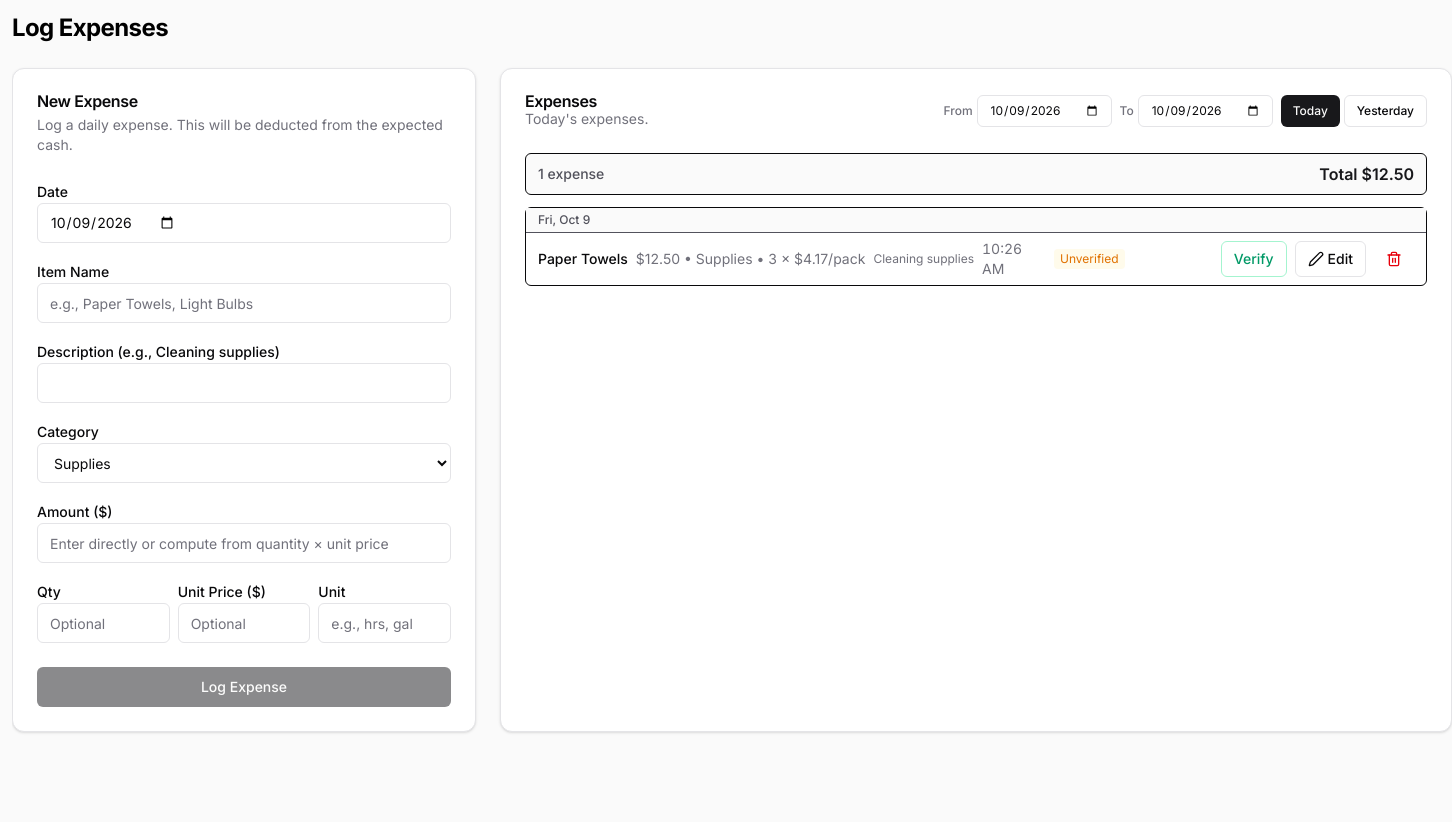
Scenario: Expenses › logs a new expense via POST
Expected: the text "Cleaning supplies" is shown, x1=873 y1=251 x2=974 y2=267
Step 1. Type "New Mop" into the field labelled "Item Name" → coordinates (244, 303), box x1=37 y1=283 x2=451 y2=323
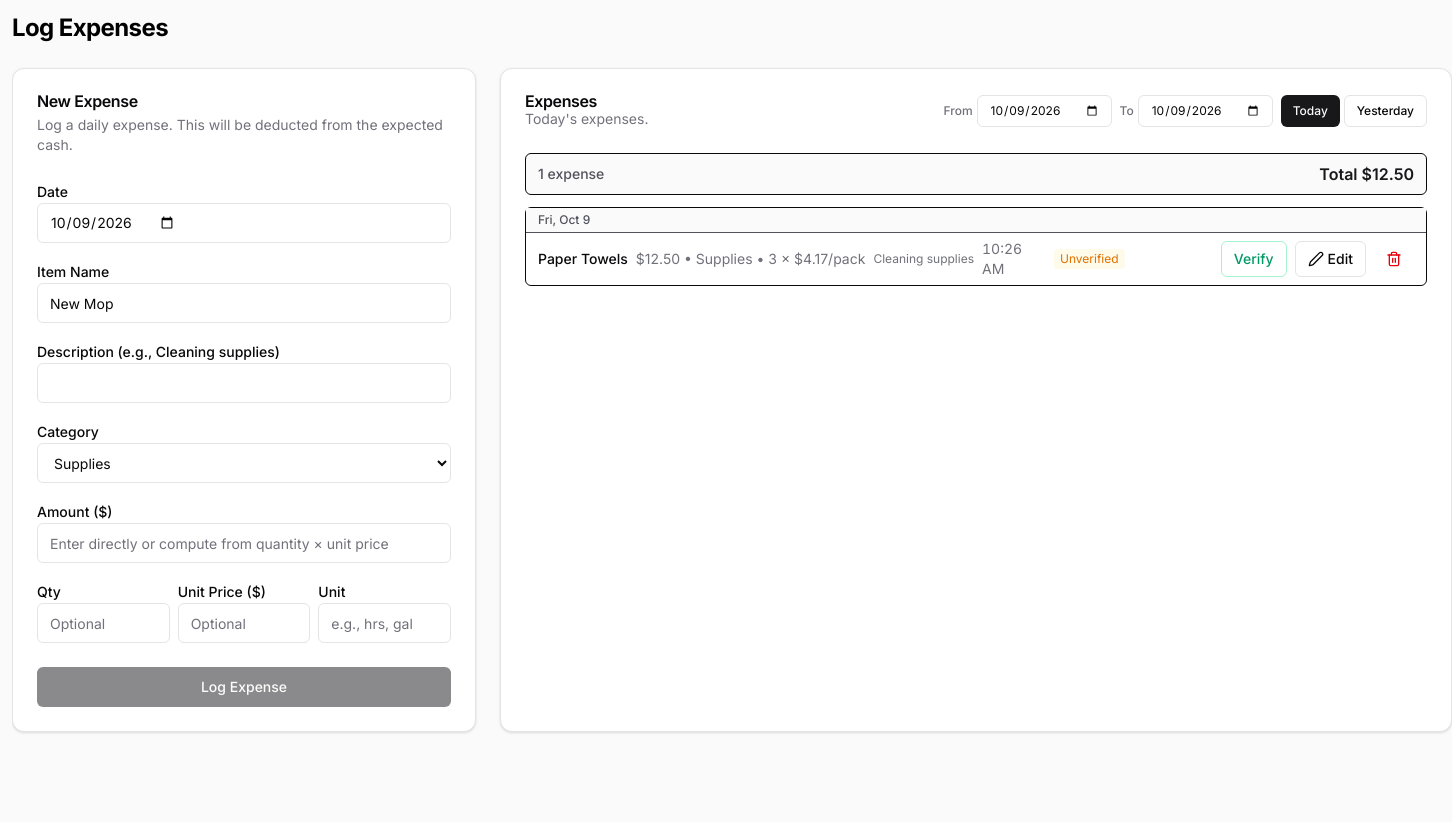
Step 2. Type "New mop" into the field labelled "Description (e.g., Cleaning supplies)" → coordinates (244, 383), box x1=37 y1=363 x2=451 y2=403
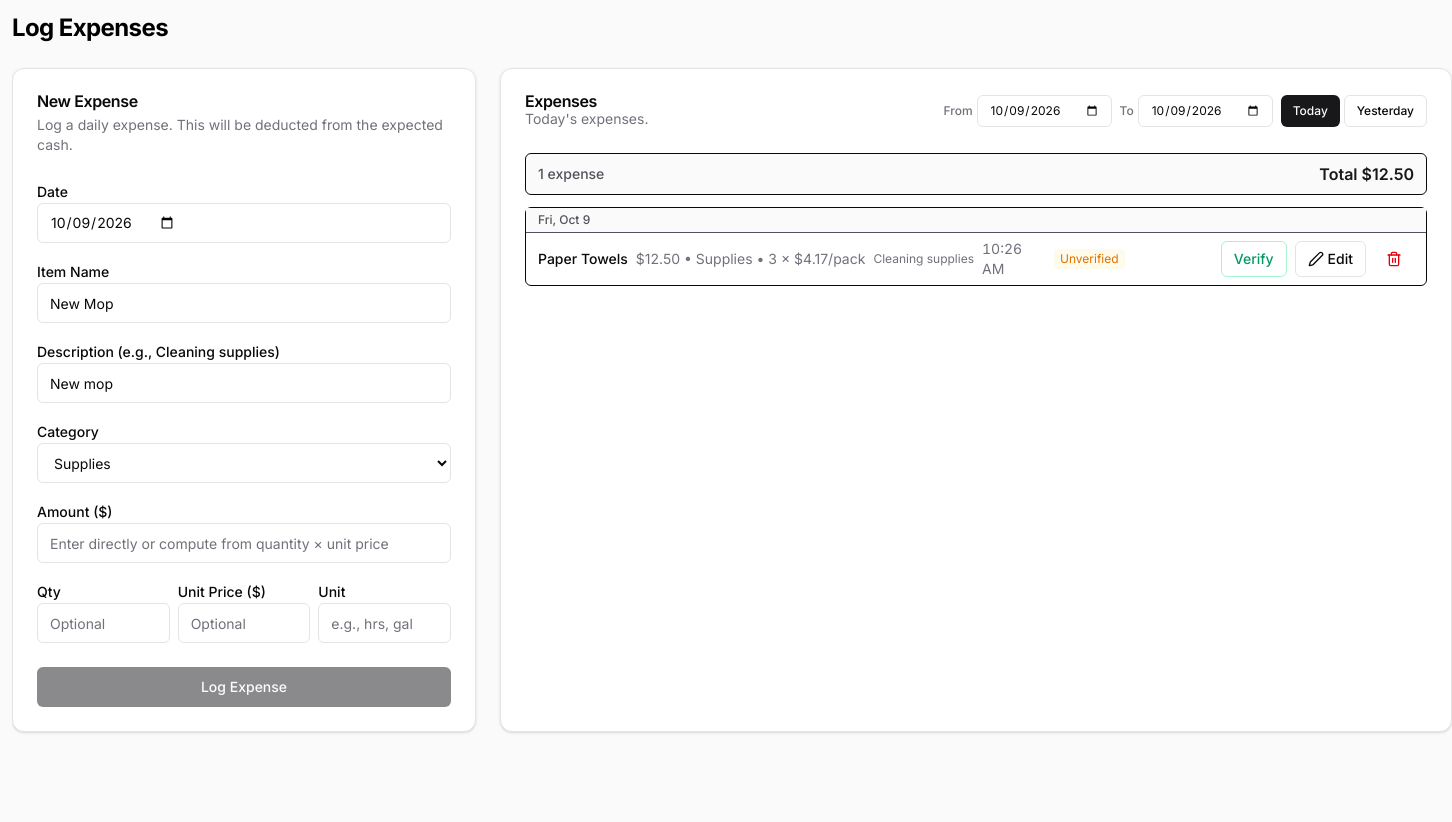
Step 3. Type "8" into the number field labelled "Amount ($)" → coordinates (244, 543), box x1=37 y1=523 x2=451 y2=563
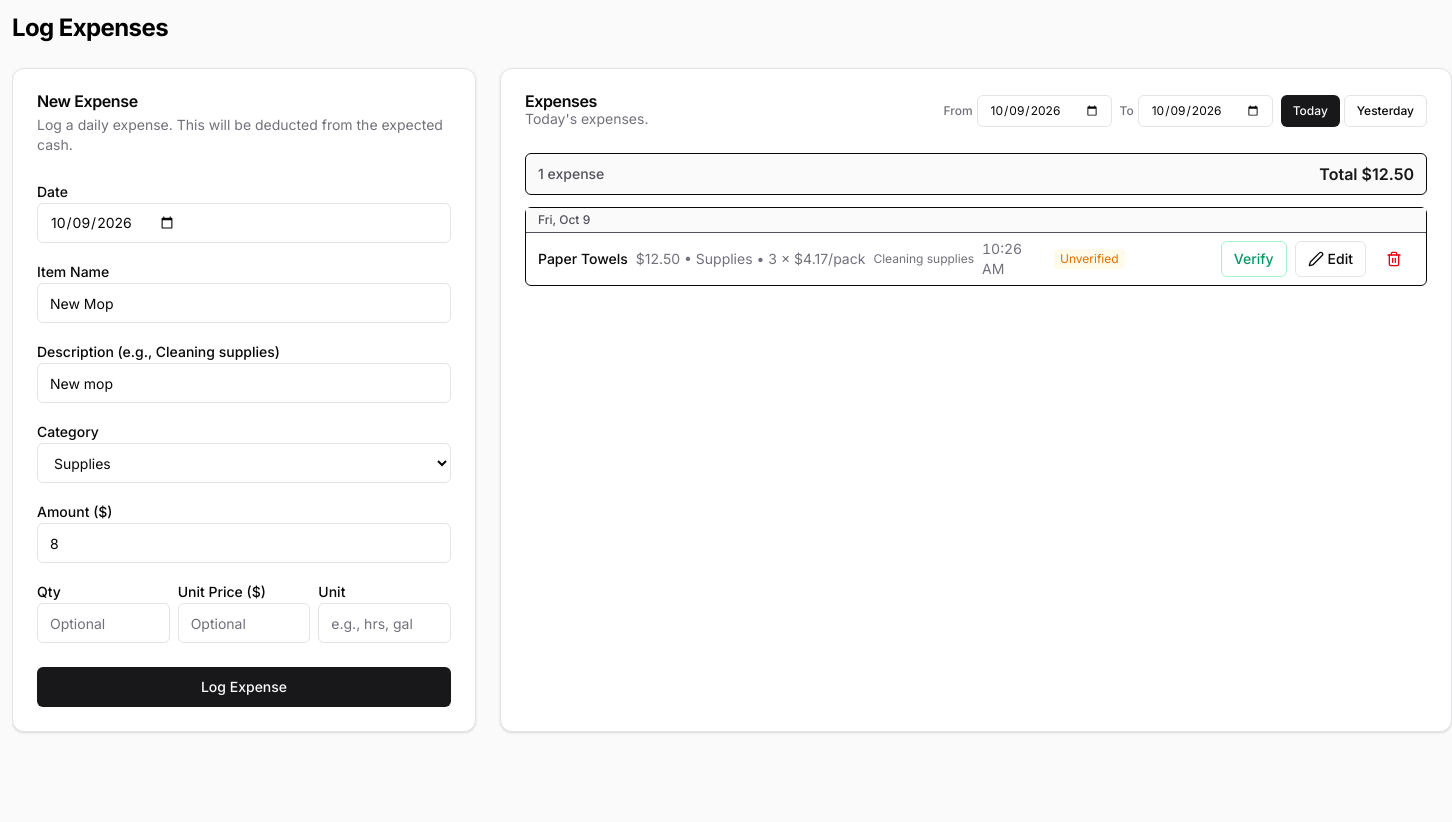
Step 4. Submit the text "New Expense", box x1=13 y1=69 x2=475 y2=731
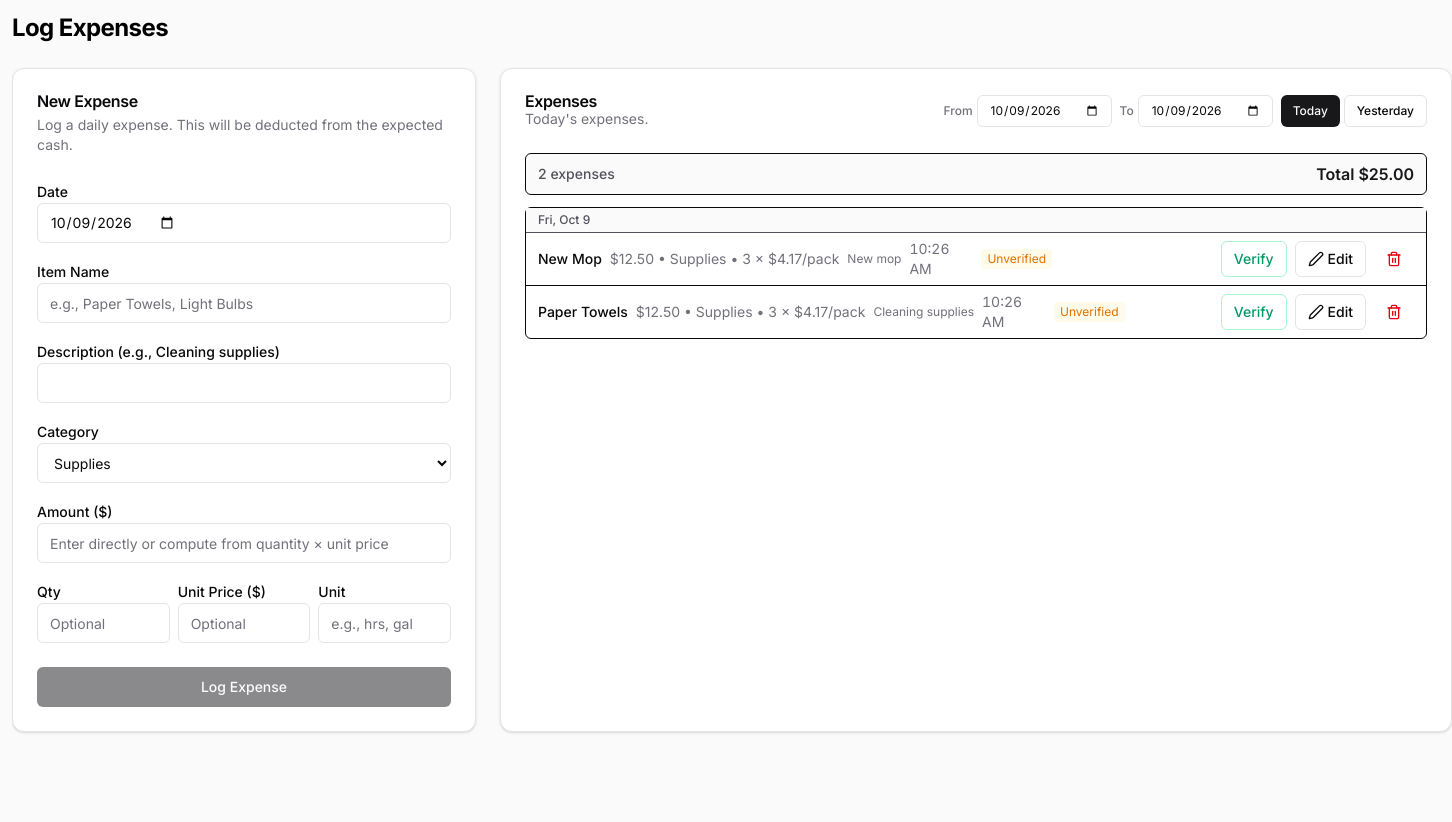
Expected: the text "New mop" is shown, x1=847 y1=251 x2=902 y2=267
